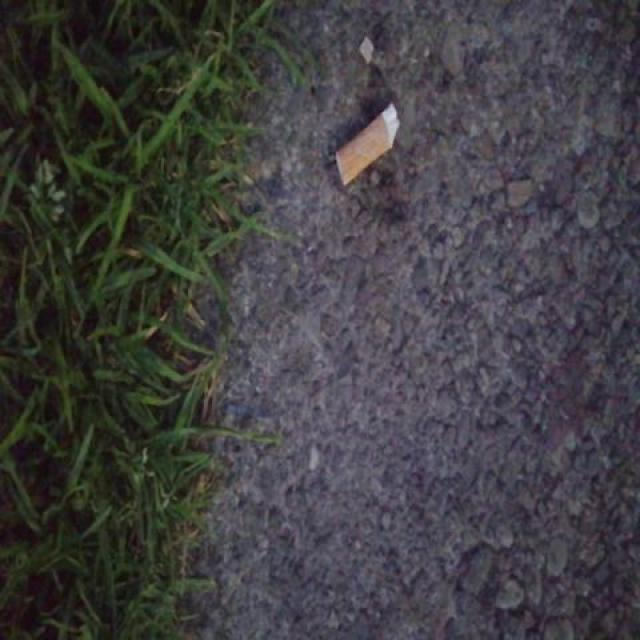non-organic waste: (332, 99, 404, 193)
